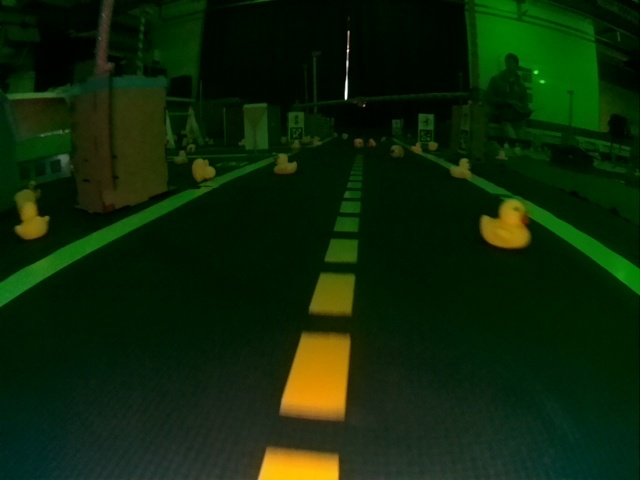Duckie: (480, 200, 529, 242), (15, 208, 49, 235), (273, 154, 297, 173), (450, 159, 470, 178), (192, 159, 210, 180), (174, 151, 188, 163), (396, 145, 404, 155), (429, 141, 438, 149), (413, 145, 421, 153), (369, 139, 377, 147), (292, 141, 300, 149), (496, 151, 505, 158), (354, 139, 361, 147)
QR code: (458, 130, 468, 153), (289, 127, 303, 139), (419, 129, 433, 140)
